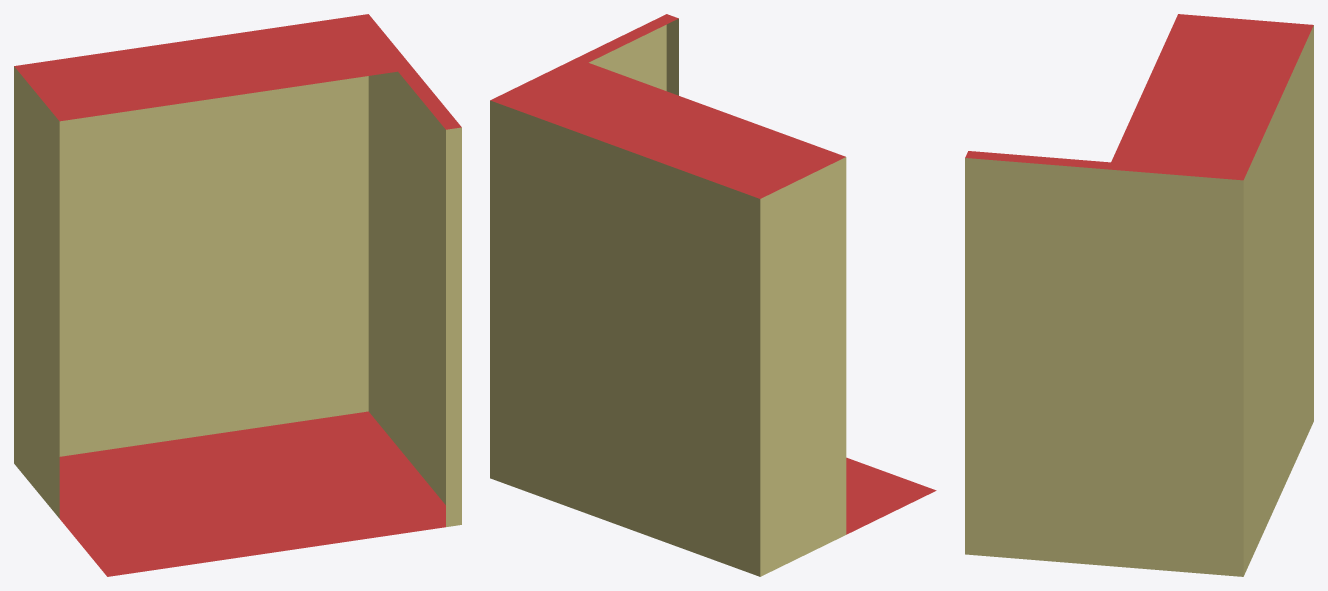
3 views of the same model, side by side, from view 1: azimuth 30°, elevation 25°; view 2: azimuth 150°, elevation 25°; view 3: azimuth 270°, elevation 25° (orthographic). The views are drawn at different scales.
Size of the model in its own units: 6.18 by 5.12 by 6.42.
